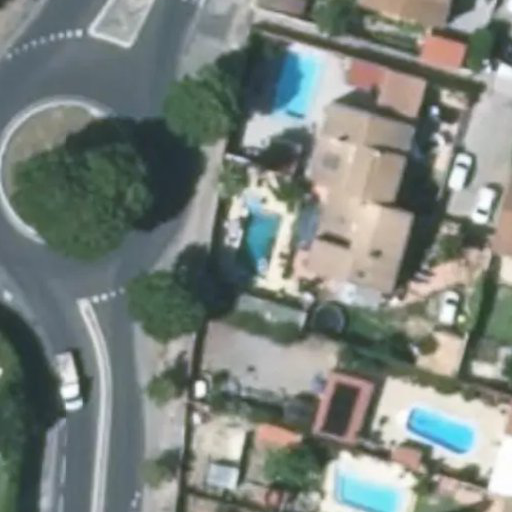pool: (232, 203, 282, 282), (273, 52, 322, 129), (408, 406, 478, 456), (335, 470, 400, 512)
